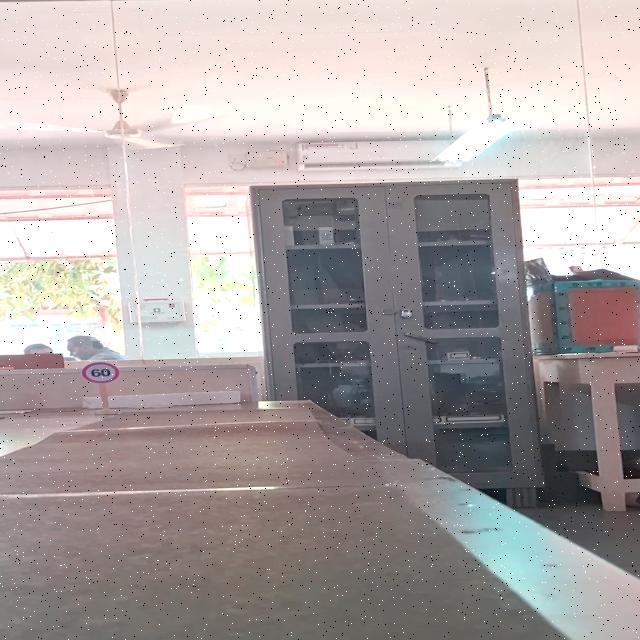Speed60: (80, 361, 120, 384)
